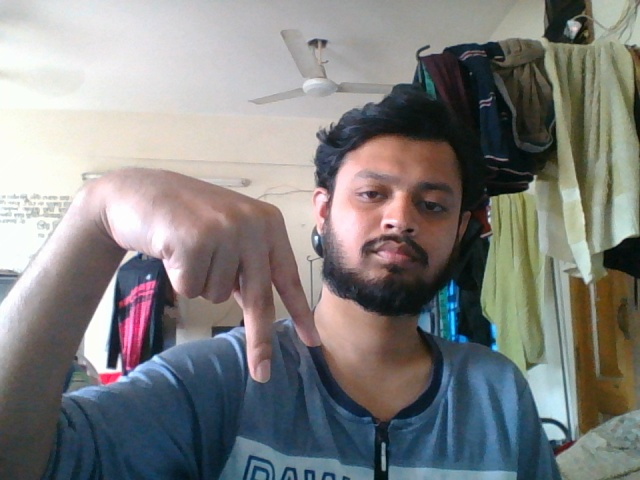pa: (103, 164, 333, 384)
